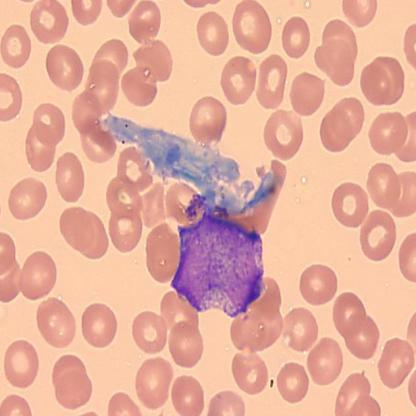Promyelocyte: (170, 195, 264, 320)
